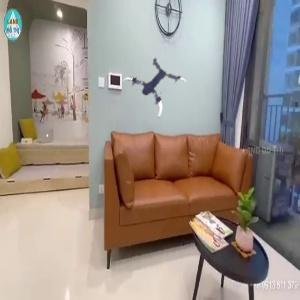drone: (122, 58, 183, 119)
